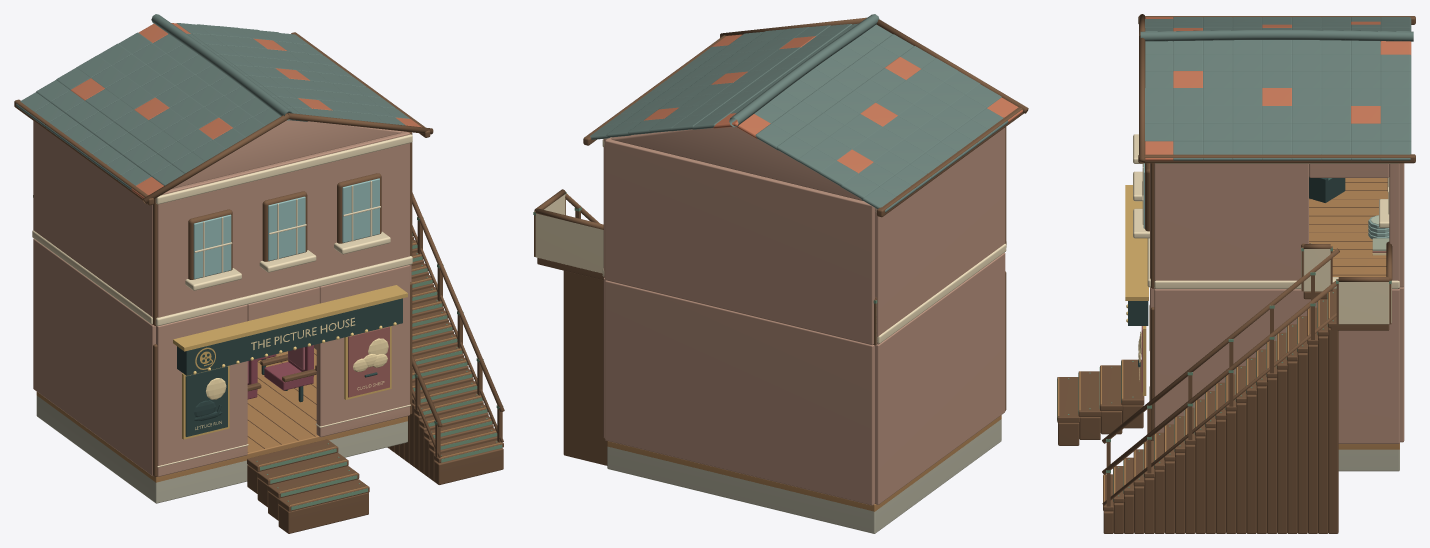
The model's file is reading-house.glb.
The picture shows the model from 3 angles, left to right: view 1: azimuth 30°, elevation 25°; view 2: azimuth 150°, elevation 25°; view 3: azimuth 270°, elevation 25°; orthographic projection. The views are drawn at different scales.
Visible parts, largest first — view 1: reading-house_Roof_Mesh, reading-house_Architecture_Mesh, reading-house_Front_Mesh, reading-house_Floor_ground_Mesh, Velvet cinema chair.003_Mesh, Detail.156, Detail.160, Detail.158, Detail.154, reading-house_FrontBase_Mesh, reading-house_Upper_Mesh; view 2: reading-house_Architecture_Mesh, reading-house_Roof_Mesh, reading-house_Upper_Mesh, reading-house_Floor_ground_Mesh; view 3: reading-house_Roof_Mesh, reading-house_Architecture_Mesh, reading-house_Upper_Mesh, reading-house_Floor_upper_Mesh, reading-house_Front_Mesh, Detail.156, Detail.154, Detail.160, Detail.158, cinema_Projector_Mesh, cinema_Booth_Mesh, Detail.029.
Boxes of the visible parts, <box> form: reading-house_Roof_Mesh: <box>14,14,433,326</box>; reading-house_Architecture_Mesh: <box>33,192,504,533</box>; reading-house_Front_Mesh: <box>156,265,409,476</box>; reading-house_Floor_ground_Mesh: <box>36,348,407,482</box>; Velvet cinema chair.003_Mesh: <box>260,345,316,402</box>; Detail.156: <box>267,466,359,498</box>; Detail.160: <box>247,439,338,471</box>; Detail.158: <box>257,452,348,485</box>; Detail.154: <box>278,479,369,511</box>; reading-house_FrontBase_Mesh: <box>157,404,410,474</box>; reading-house_Upper_Mesh: <box>33,132,412,325</box>; reading-house_Architecture_Mesh: <box>563,193,1006,533</box>; reading-house_Roof_Mesh: <box>583,14,1028,344</box>; reading-house_Upper_Mesh: <box>533,127,1006,345</box>; reading-house_Floor_ground_Mesh: <box>607,415,1001,511</box>; reading-house_Roof_Mesh: <box>1133,14,1415,289</box>; reading-house_Architecture_Mesh: <box>1057,248,1404,533</box>; reading-house_Upper_Mesh: <box>1150,163,1404,324</box>; reading-house_Floor_upper_Mesh: <box>1309,178,1388,276</box>; reading-house_Front_Mesh: <box>1125,185,1154,400</box>; Detail.156: <box>1078,371,1101,416</box>; Detail.154: <box>1057,377,1079,422</box>; Detail.160: <box>1121,359,1144,405</box>; Detail.158: <box>1100,365,1122,410</box>; cinema_Projector_Mesh: <box>1309,177,1345,202</box>; cinema_Booth_Mesh: <box>1368,215,1389,255</box>; Detail.029: <box>1330,291,1389,330</box>.
Size of the model in its own units: 7.63 by 8.38 by 6.72.
